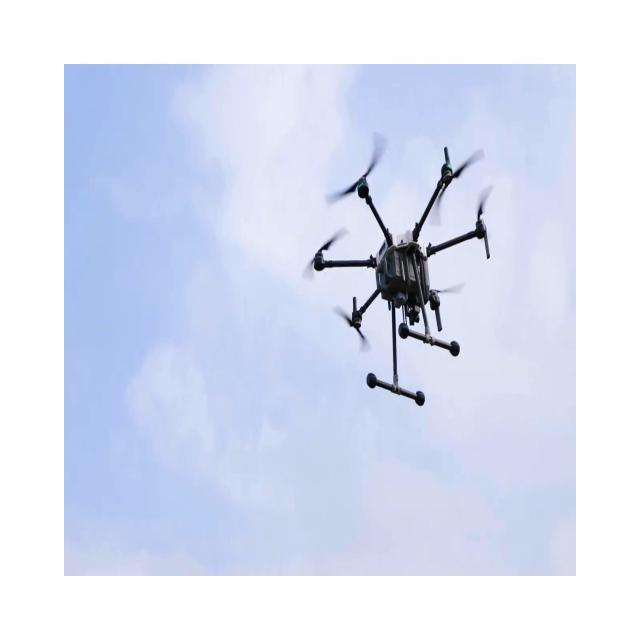drone: (306, 130, 494, 407)
